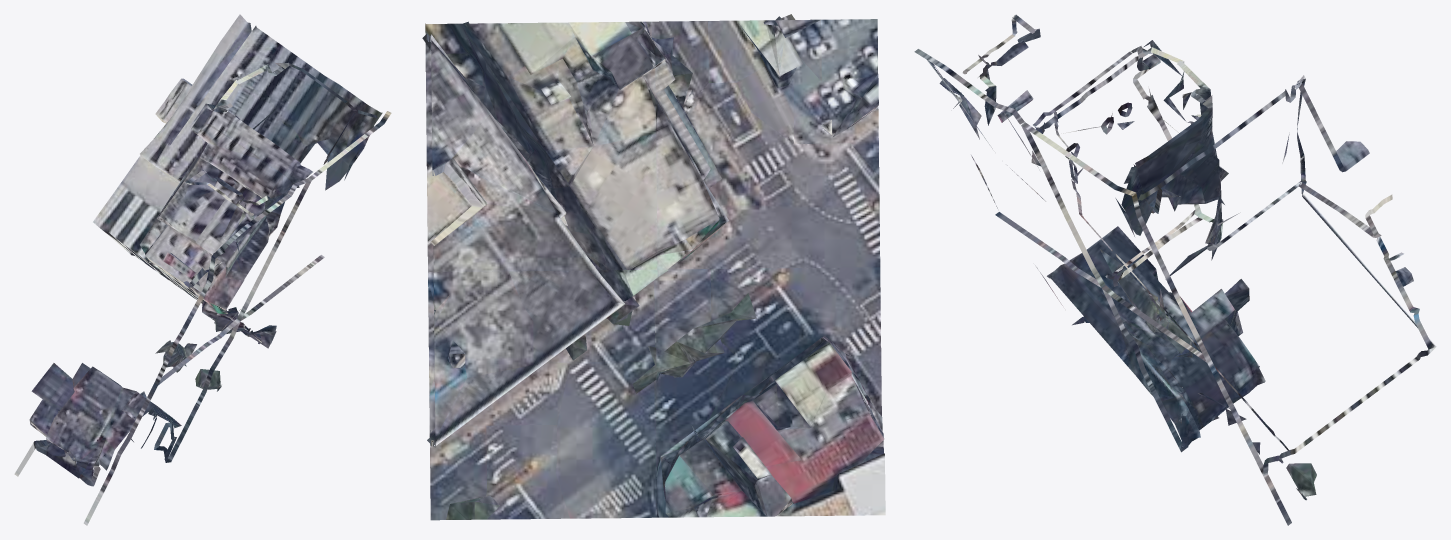
3 renders of one model, left to right at view 1: azimuth 30°, elevation 25°; view 2: azimuth 150°, elevation 25°; view 3: azimuth 270°, elevation 25°, orthographic. The views are drawn at different scales.
Size of the model in its own units: 84.39 by 84.2 by 88.77.
Materials: 1 (1 with a texture image).
